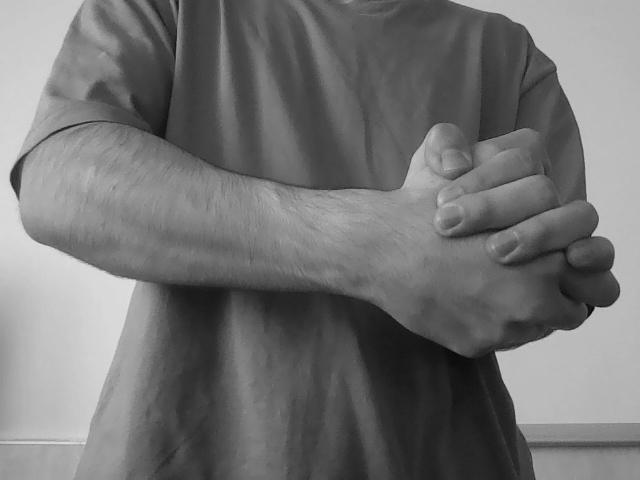friend: (349, 117, 625, 366)
